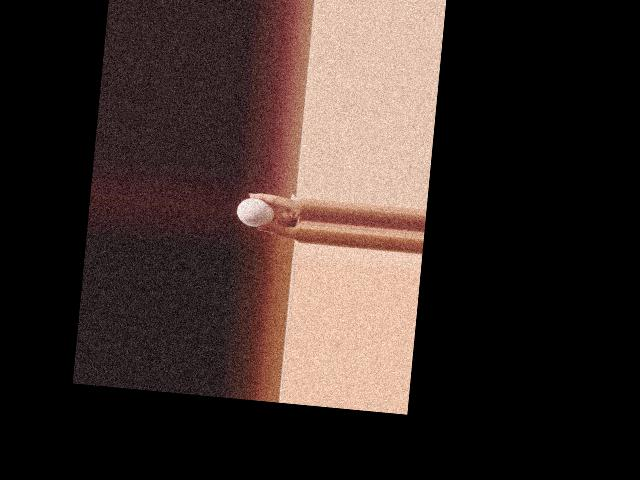egg: (236, 197, 276, 229)
